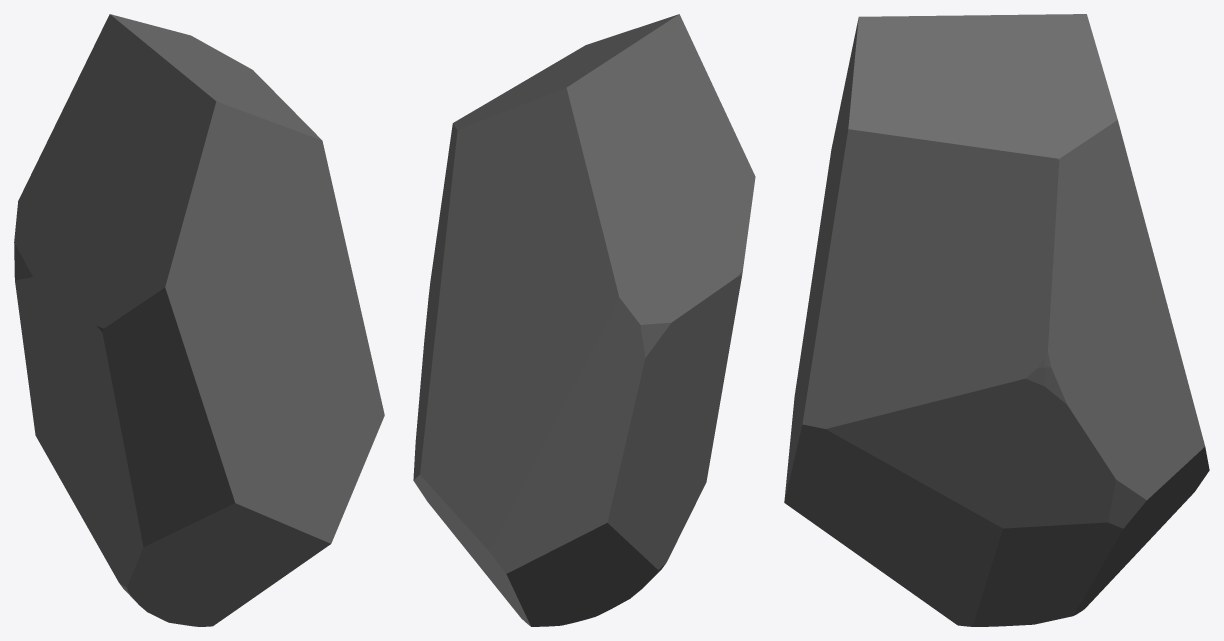
File: Rock4.fbx
3 renders of one model, left to right at view 1: azimuth 30°, elevation 25°; view 2: azimuth 150°, elevation 25°; view 3: azimuth 270°, elevation 25°, orthographic. The views are drawn at different scales.
Parts seen in each view (by area): view 1: Big Rock 4; view 2: Big Rock 4; view 3: Big Rock 4.
Part boxes in pixels (<box>): Big Rock 4: <box>14,14,384,626</box>; Big Rock 4: <box>413,14,755,626</box>; Big Rock 4: <box>784,14,1209,626</box>.
Bounding box in the file's own units: 257 × 181 × 395.
